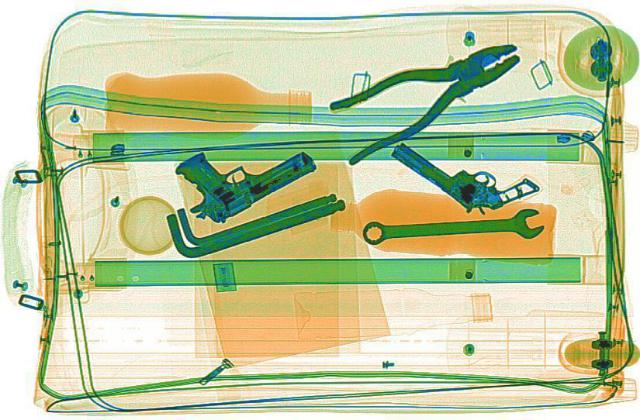Gun: (142, 120, 332, 228), (375, 117, 545, 219)
Pliers: (291, 27, 549, 164)
Wrench: (357, 204, 546, 248)
